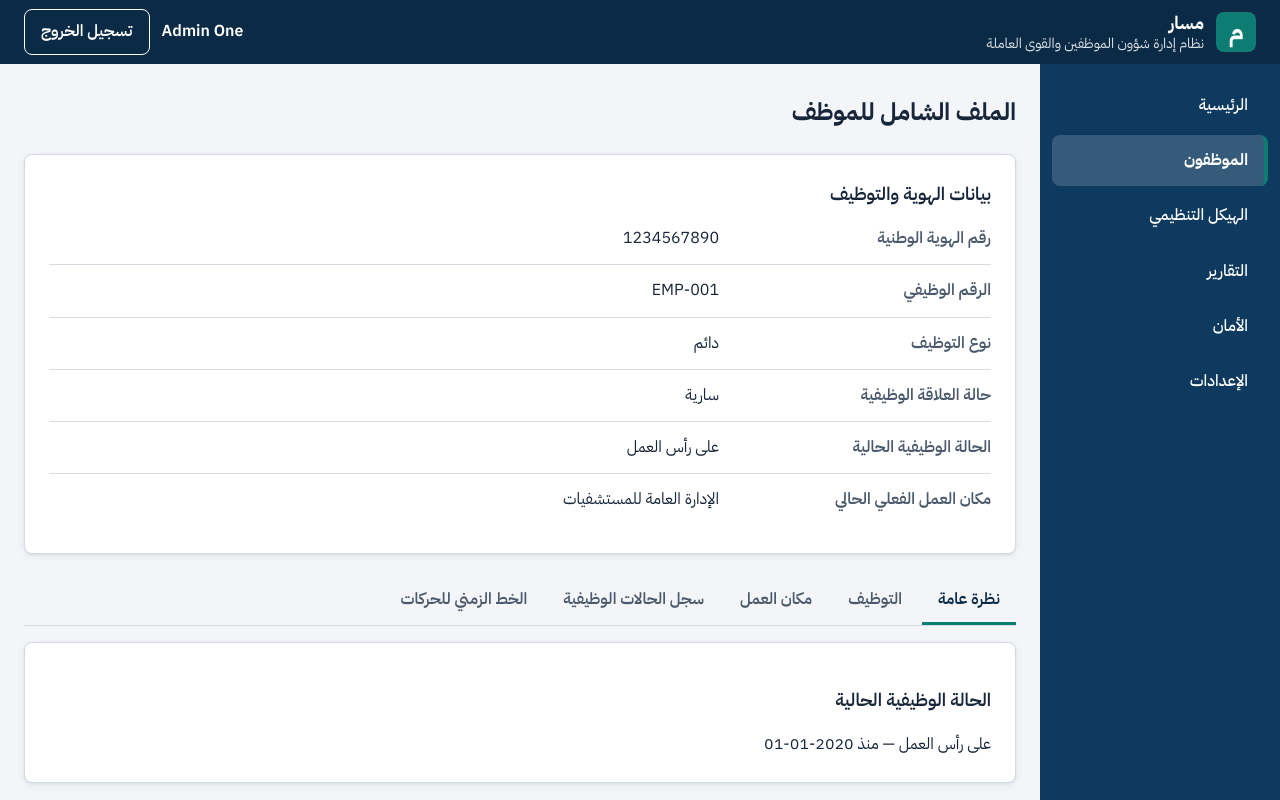
Test: Employee360Page › shows an unauthorized state for a section the principal cannot view, without blanking the rest of the page
Check: the heading "الملف الشامل للموظف" is shown, box x1=792 y1=94 x2=1016 y2=130
Click the tab "الخط الزمني للحركات": coordinates (464, 601) x1=384 y1=578 x2=543 y2=624
(page scrolled)
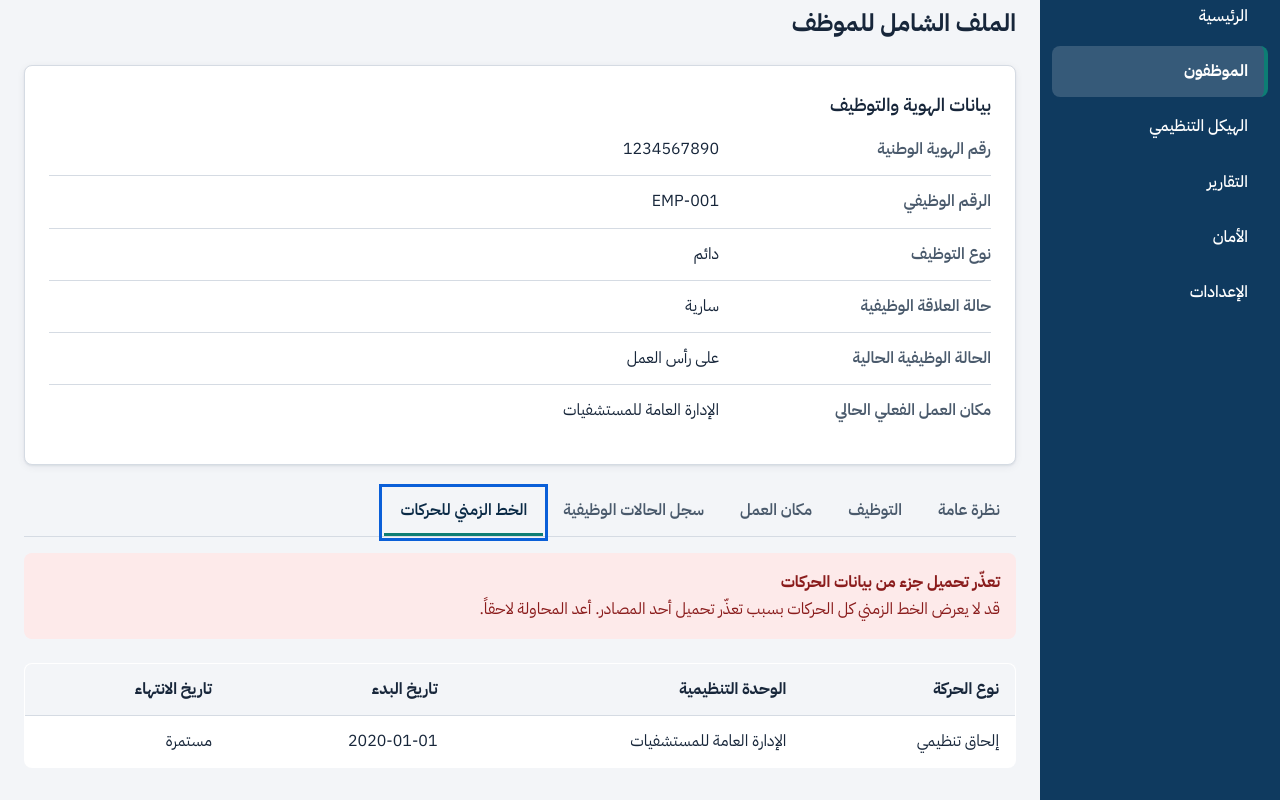
Check: the text "إلحاق تنظيمي" is shown, box x1=802 y1=716 x2=1016 y2=768
Check: the text "تعذّر تحميل جزء من بيانات الحركات" is shown, box x1=781 y1=570 x2=1000 y2=594
